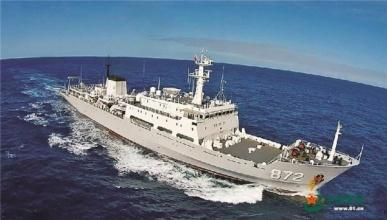warship: (62, 62, 364, 191)
